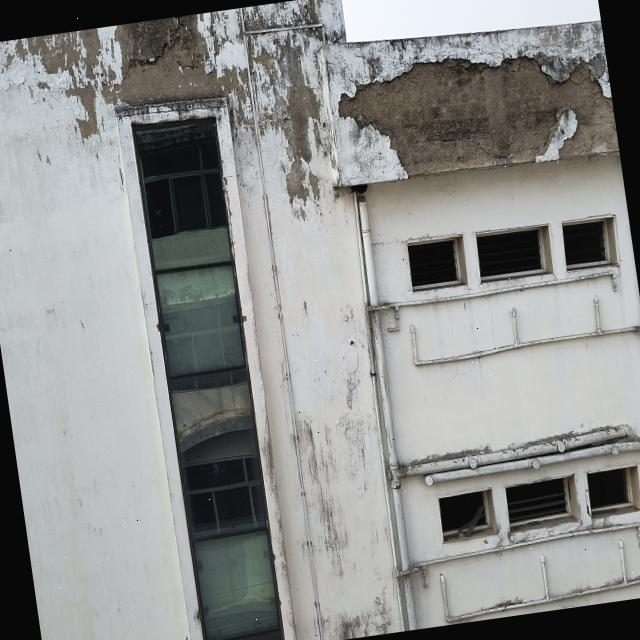Corrosion: (381, 412, 640, 517), (246, 26, 335, 295)
Paint Peeling: (0, 8, 609, 177)
